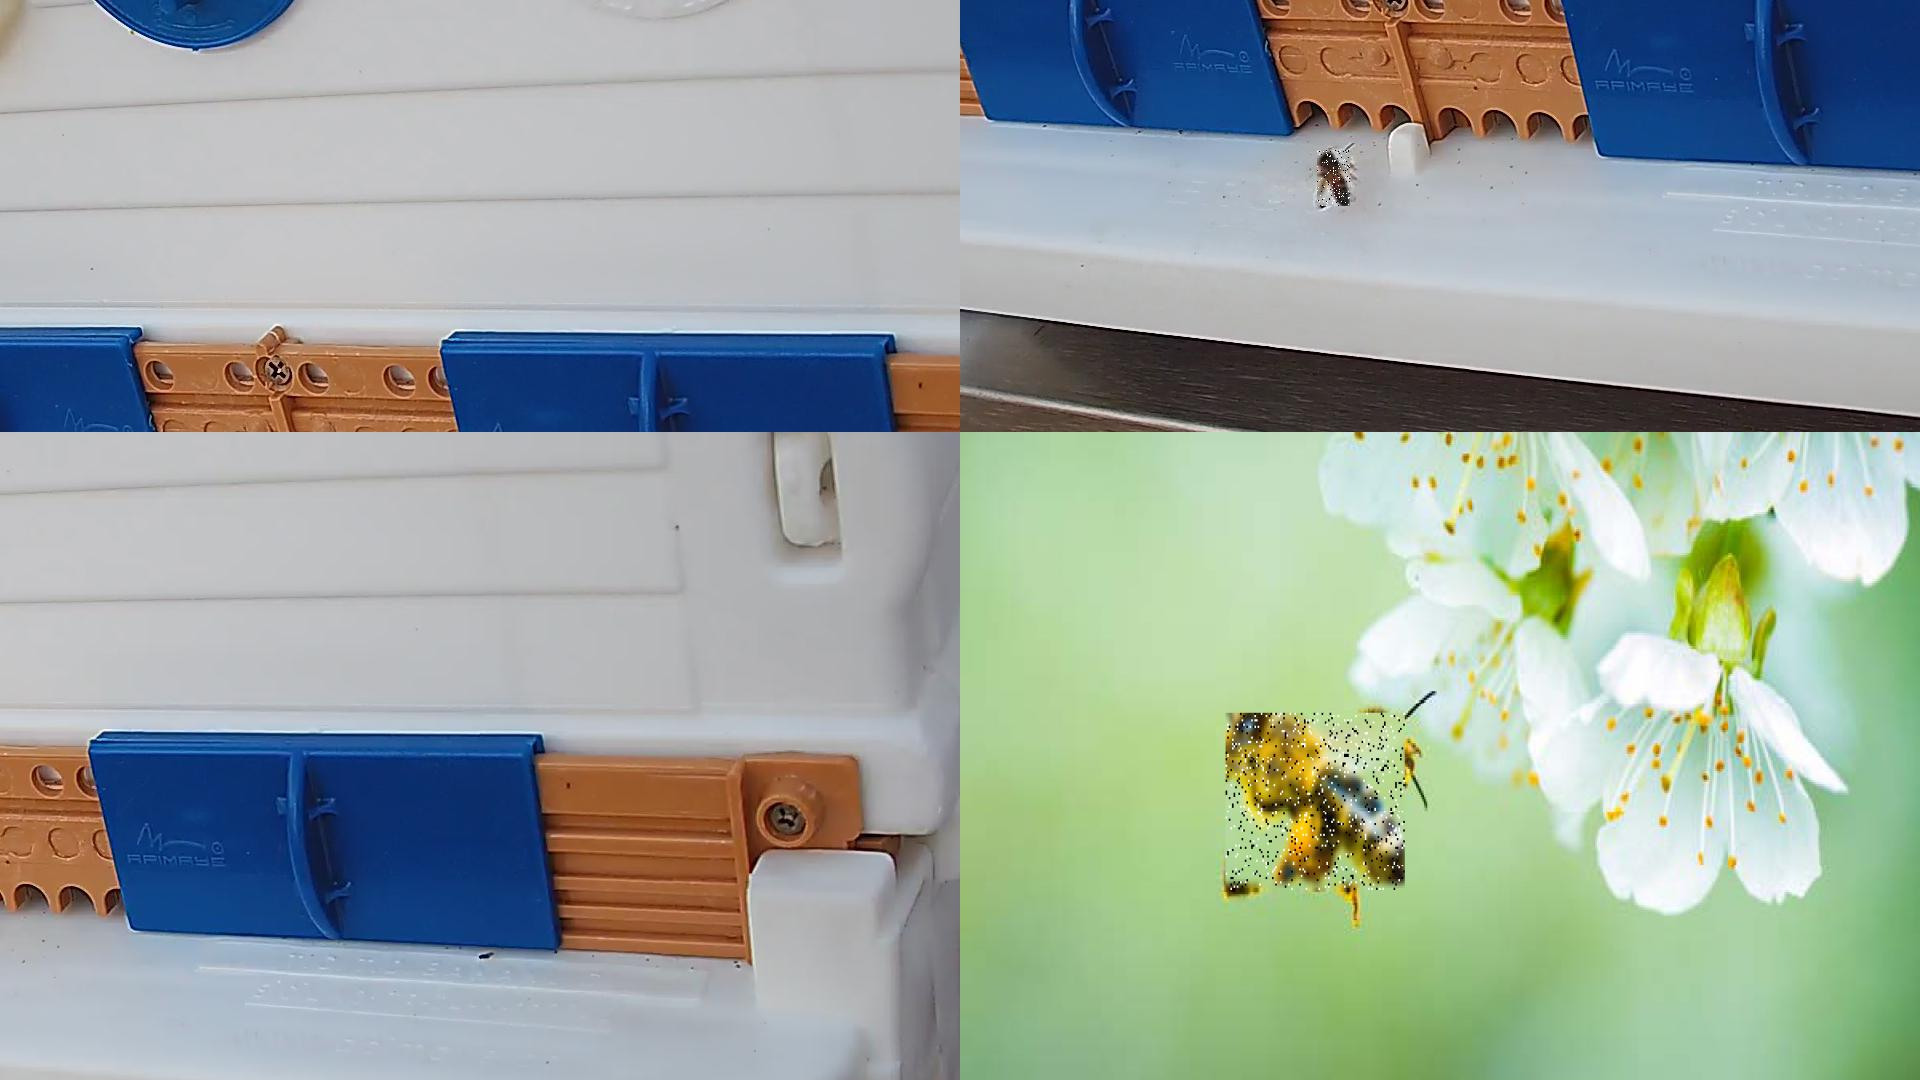pollenbee: (1226, 715, 1407, 894), (1317, 150, 1352, 207)
